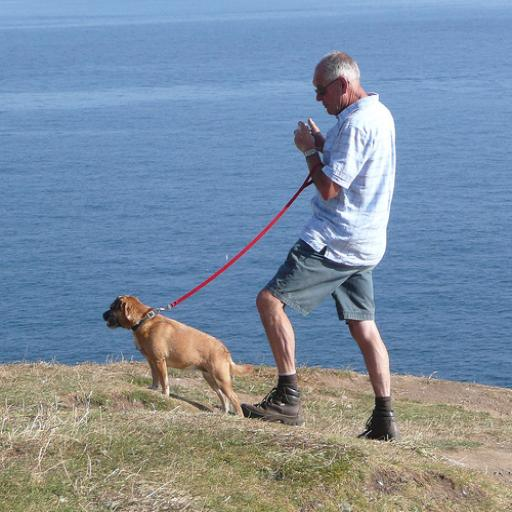animal: (102, 293, 256, 419)
person: (240, 50, 400, 439)
